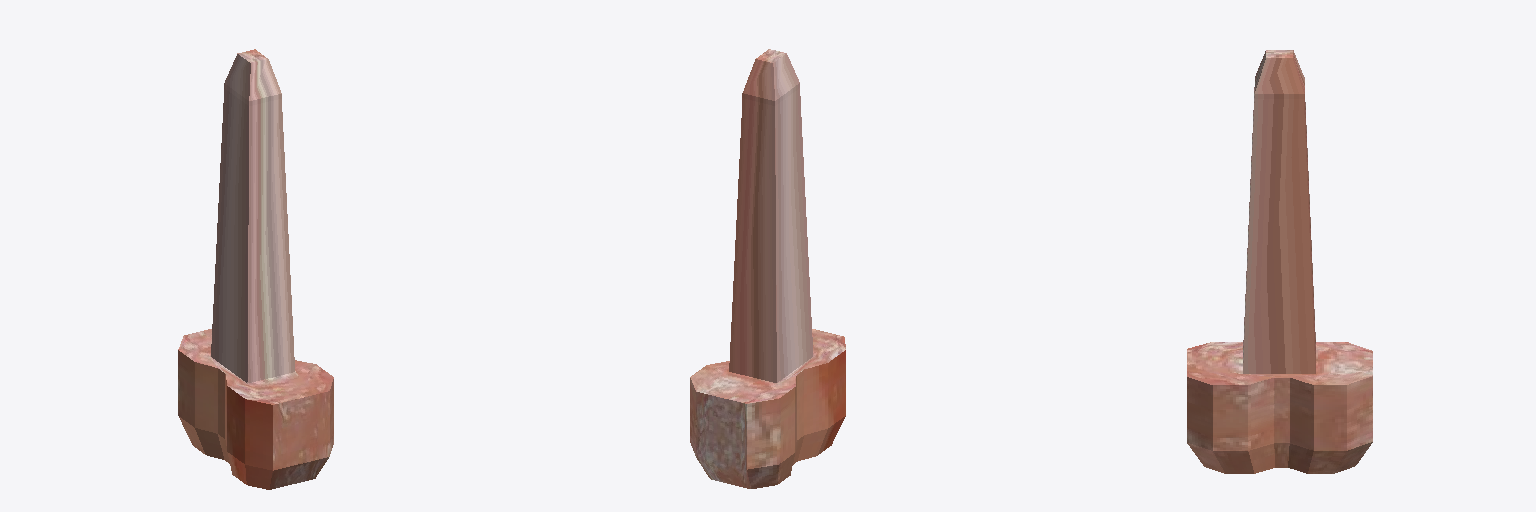
3 views of the same model, side by side, from view 1: azimuth 30°, elevation 25°; view 2: azimuth 150°, elevation 25°; view 3: azimuth 270°, elevation 25° (orthographic).
Parts seen in each view (by area): view 1: Cube; view 2: Cube; view 3: Cube.
Boxes of the visible parts, <box> form: Cube: <box>178,49,333,489</box>; Cube: <box>690,49,845,488</box>; Cube: <box>1187,50,1372,473</box>.
Bounding box in the file's own units: 2 × 8.62 × 3.64.
1 materials, 1 textured.